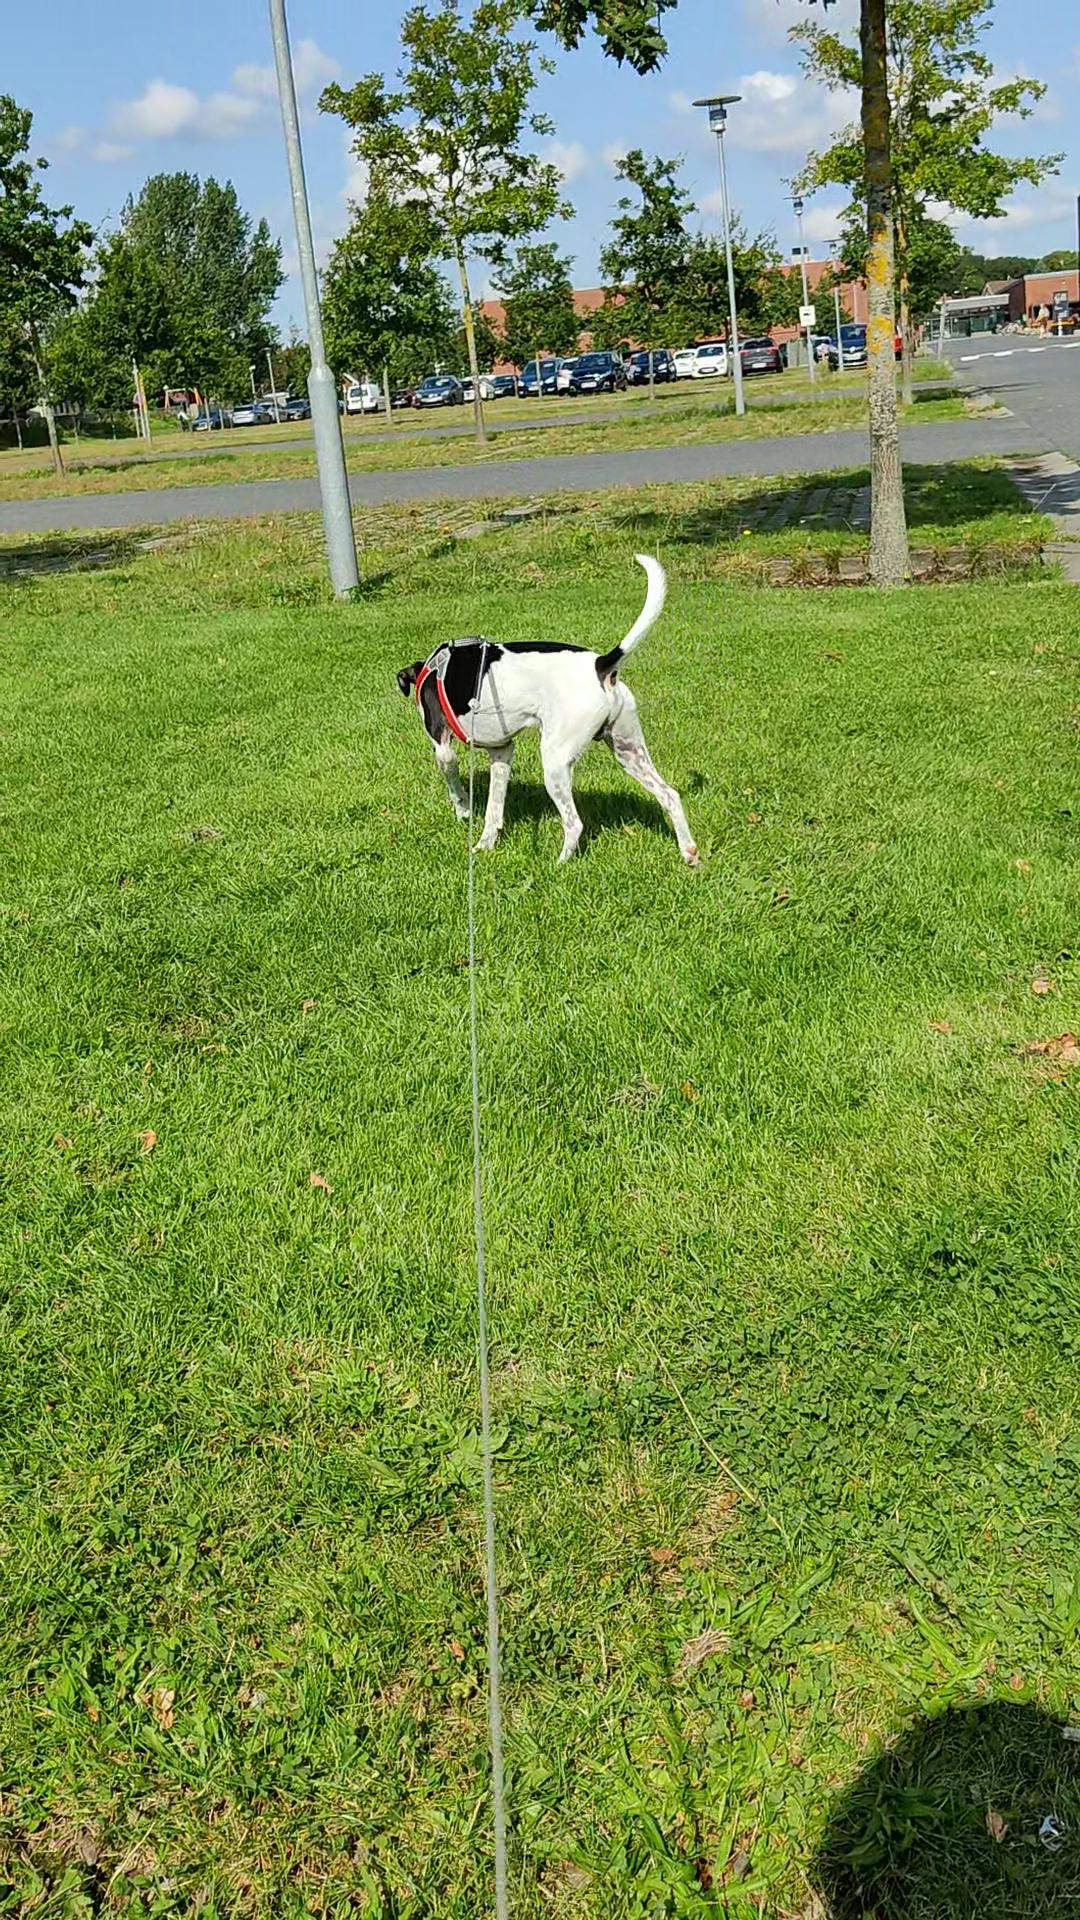Dog: (375, 529, 744, 891)
